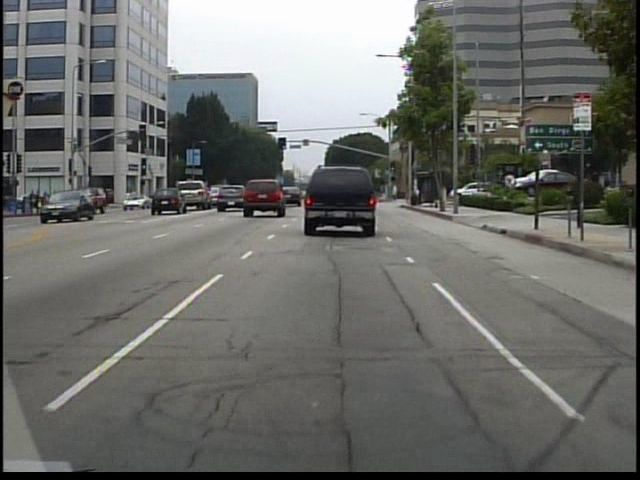person: (391, 182, 402, 204)
